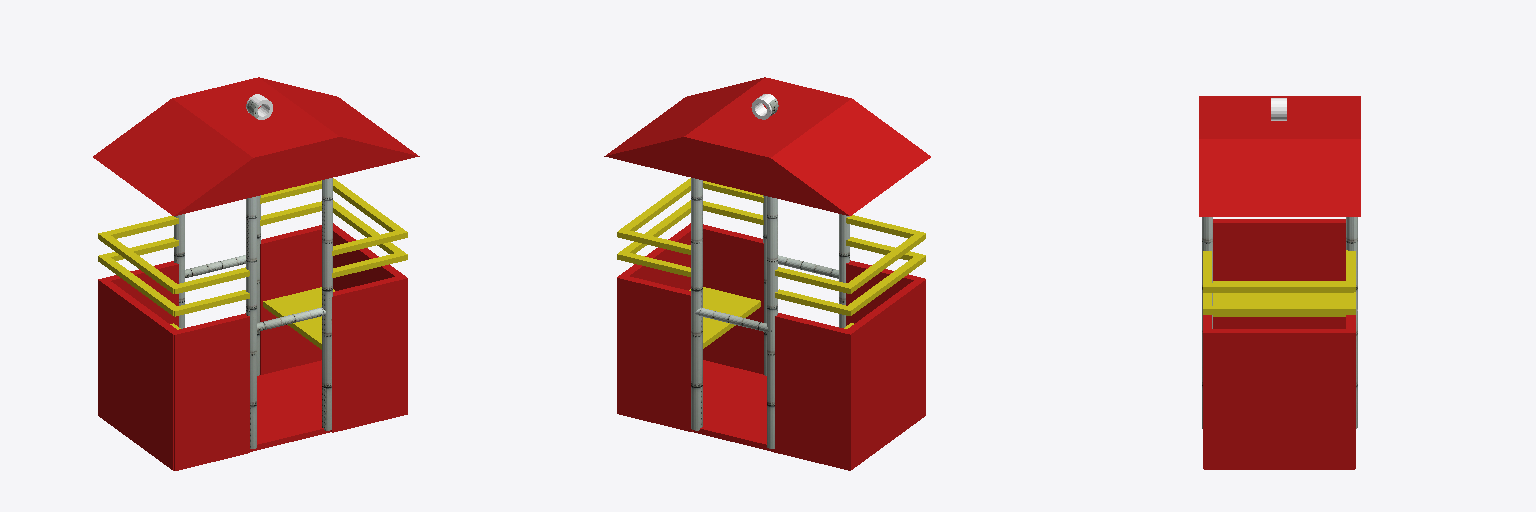
3 renders of one model, left to right at view 1: azimuth 30°, elevation 25°; view 2: azimuth 150°, elevation 25°; view 3: azimuth 270°, elevation 25°, orthographic.
Parts seen in each view (by area): view 1: cabine:group8 cabine:pasted__pCube2 cabine:polySurface1, cabine:group1 cabine:pasted__pCube1 cabine:polySurface1, cabine:pCube1 cabine:polySurface1, cabine:group7 cabine:pasted__pCube1 cabine:polySurface1, cabine:group7 cabine:pasted__group6 cabine:pasted__pasted__pCube, cabine:pCube2 cabine:polySurface1, cabine:group3 cabine:pasted__pCylinder1 cabine:polySurface1, cabine:group13 cabine:pasted__group11 cabine:pasted__group12 cab, cabine:pCylinder1 cabine:polySurface1, cabine:group14 cabine:pasted__group13 cabine:pasted__pasted__gro, cabine:group14 cabine:pasted__group11 cabine:pasted__group12 cab, cabine:group10 cabine:pasted__group9 cabine:pasted__pasted__pCub (+9 smaller); view 2: cabine:group8 cabine:pasted__pCube2 cabine:polySurface1, cabine:group1 cabine:pasted__pCube1 cabine:polySurface1, cabine:group6 cabine:pasted__pCube1 cabine:polySurface1, cabine:group7 cabine:pasted__group6 cabine:pasted__pasted__pCube, cabine:group7 cabine:pasted__pCube1 cabine:polySurface1, cabine:pCube2 cabine:polySurface1, cabine:group4 cabine:pasted__group3 cabine:pasted__pasted__pCyli, cabine:group13 cabine:pasted__group11 cabine:pasted__group12 cab, cabine:group4 cabine:pasted__pCylinder1 cabine:polySurface1, cabine:group14 cabine:pasted__group13 cabine:pasted__pasted__gro, cabine:group14 cabine:pasted__group11 cabine:pasted__group12 cab, cabine:group10 cabine:pasted__group9 cabine:pasted__pasted__pCub (+9 smaller); view 3: cabine:group2 cabine:pasted__group1 cabine:pasted__pasted__pCube, cabine:group8 cabine:pasted__pCube2 cabine:polySurface1, cabine:group1 cabine:pasted__pCube1 cabine:polySurface1, cabine:group9 cabine:pasted__pCube2 cabine:polySurface1, cabine:group14 cabine:pasted__group13 cabine:pasted__pasted__gro, cabine:group14 cabine:pasted__group11 cabine:pasted__group12 cab, cabine:group4 cabine:pasted__group3 cabine:pasted__pasted__pCyli, cabine:group3 cabine:pasted__pCylinder1 cabine:polySurface1.
Part boxes in pixels (bbox=[...]): cabine:group8 cabine:pasted__pCube2 cabine:polySurface1: bbox=[93, 77, 419, 215]; cabine:group1 cabine:pasted__pCube1 cabine:polySurface1: bbox=[98, 278, 180, 470]; cabine:pCube1 cabine:polySurface1: bbox=[171, 313, 249, 470]; cabine:group7 cabine:pasted__pCube1 cabine:polySurface1: bbox=[331, 277, 407, 432]; cabine:group7 cabine:pasted__group6 cabine:pasted__pasted__pCube: bbox=[260, 224, 334, 374]; cabine:pCube2 cabine:polySurface1: bbox=[250, 360, 330, 451]; cabine:group3 cabine:pasted__pCylinder1 cabine:polySurface1: bbox=[322, 178, 332, 430]; cabine:group13 cabine:pasted__group11 cabine:pasted__group12 cab: bbox=[98, 216, 249, 293]; cabine:pCylinder1 cabine:polySurface1: bbox=[246, 196, 256, 448]; cabine:group14 cabine:pasted__group13 cabine:pasted__pasted__gro: bbox=[260, 178, 407, 255]; cabine:group14 cabine:pasted__group11 cabine:pasted__group12 cab: bbox=[260, 200, 407, 277]; cabine:group10 cabine:pasted__group9 cabine:pasted__pasted__pCub: bbox=[263, 287, 334, 349]; cabine:group8 cabine:pasted__pCube2 cabine:polySurface1: bbox=[604, 77, 930, 215]; cabine:group1 cabine:pasted__pCube1 cabine:polySurface1: bbox=[843, 278, 925, 470]; cabine:group6 cabine:pasted__pCube1 cabine:polySurface1: bbox=[774, 313, 853, 470]; cabine:group7 cabine:pasted__group6 cabine:pasted__pasted__pCube: bbox=[617, 274, 692, 431]; cabine:group7 cabine:pasted__pCube1 cabine:polySurface1: bbox=[689, 224, 763, 374]; cabine:pCube2 cabine:polySurface1: bbox=[693, 360, 773, 451]; cabine:group4 cabine:pasted__group3 cabine:pasted__pasted__pCyli: bbox=[691, 178, 702, 430]; cabine:group13 cabine:pasted__group11 cabine:pasted__group12 cab: bbox=[775, 215, 925, 293]; cabine:group4 cabine:pasted__pCylinder1 cabine:polySurface1: bbox=[767, 196, 777, 448]; cabine:group14 cabine:pasted__group13 cabine:pasted__pasted__gro: bbox=[617, 178, 763, 254]; cabine:group14 cabine:pasted__group11 cabine:pasted__group12 cab: bbox=[617, 200, 763, 276]; cabine:group10 cabine:pasted__group9 cabine:pasted__pasted__pCub: bbox=[689, 287, 760, 348]; cabine:group2 cabine:pasted__group1 cabine:pasted__pasted__pCube: bbox=[1204, 329, 1354, 469]; cabine:group8 cabine:pasted__pCube2 cabine:polySurface1: bbox=[1199, 96, 1360, 216]; cabine:group1 cabine:pasted__pCube1 cabine:polySurface1: bbox=[1213, 219, 1345, 328]; cabine:group9 cabine:pasted__pCube2 cabine:polySurface1: bbox=[1213, 281, 1345, 316]; cabine:group14 cabine:pasted__group13 cabine:pasted__pasted__gro: bbox=[1203, 250, 1355, 292]; cabine:group14 cabine:pasted__group11 cabine:pasted__group12 cab: bbox=[1203, 292, 1355, 314]; cabine:group4 cabine:pasted__group3 cabine:pasted__pasted__pCyli: bbox=[1346, 217, 1357, 428]; cabine:group3 cabine:pasted__pCylinder1 cabine:polySurface1: bbox=[1202, 217, 1212, 428].
Size of the model in its own units: 2.03 by 2.5 by 1.16.
Materials: 3 (3 with a texture image).